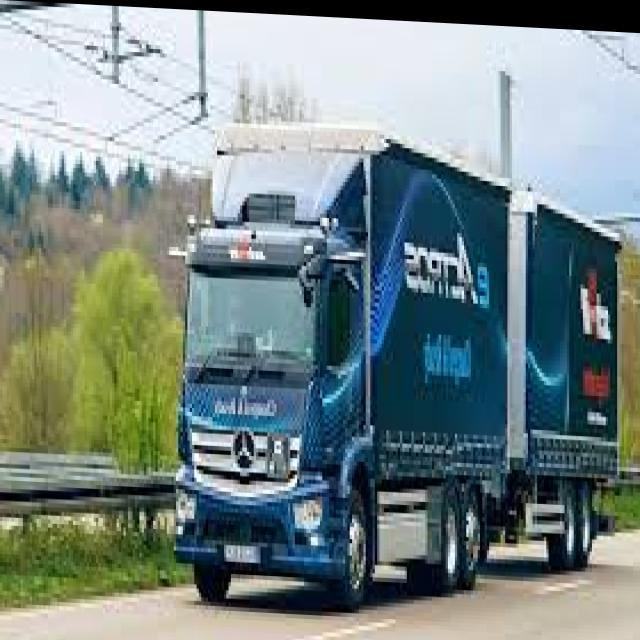covered: (169, 105, 626, 616)
